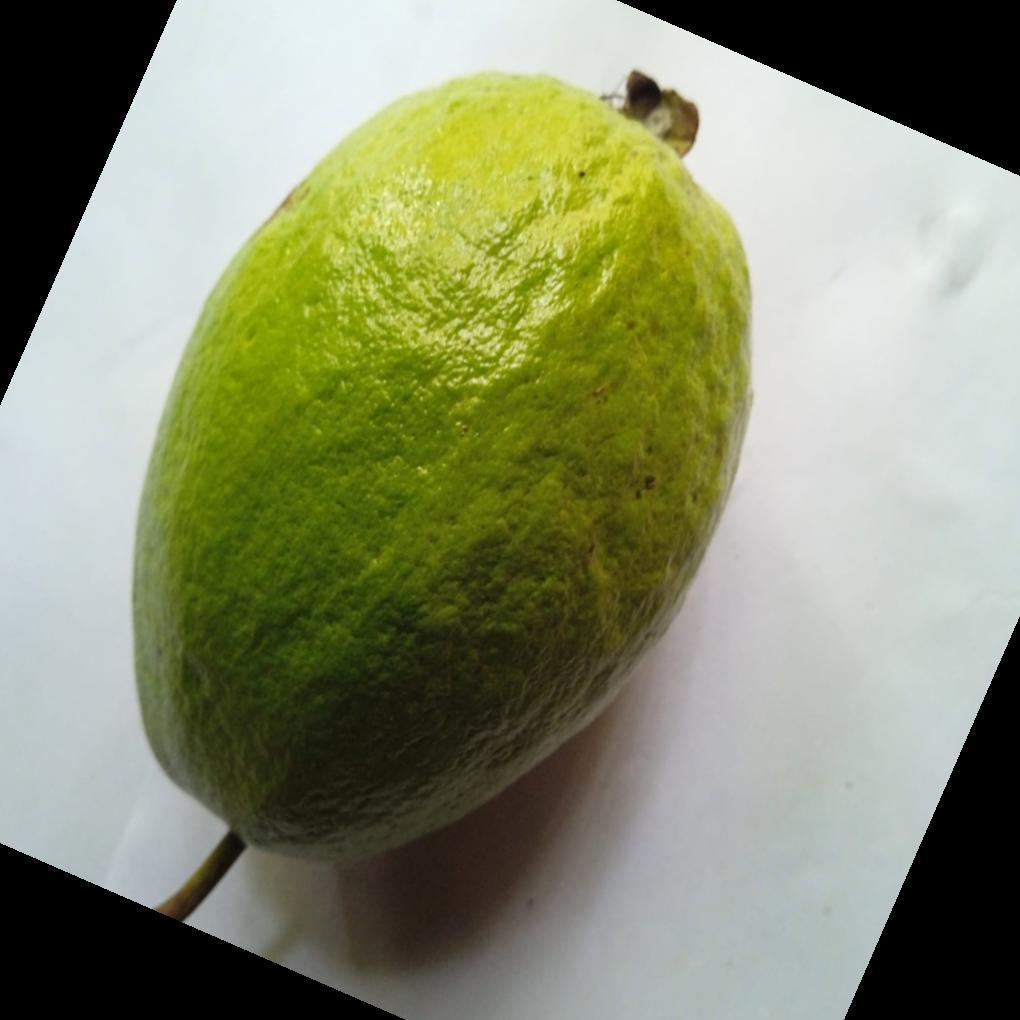FreshGuava: (128, 71, 754, 873)
